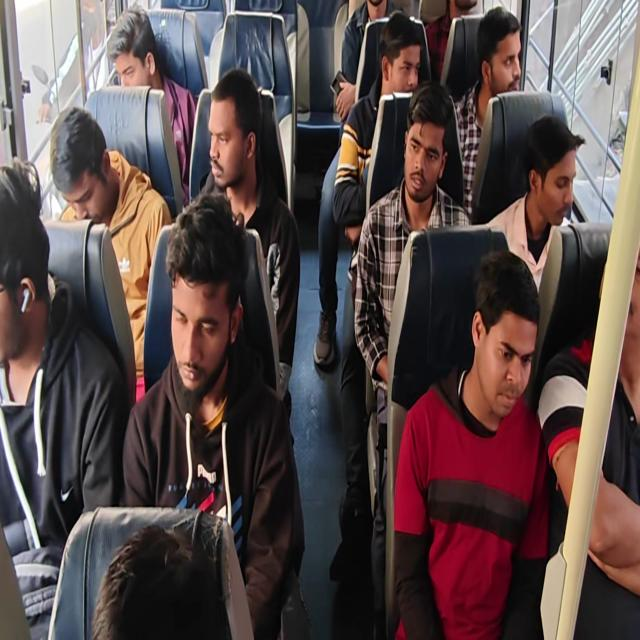person: (90, 522, 234, 640), (162, 196, 244, 402), (464, 240, 540, 415), (0, 162, 52, 378), (44, 100, 126, 230), (202, 61, 262, 198), (517, 117, 586, 221), (99, 4, 166, 96), (601, 230, 640, 386), (405, 81, 449, 206), (475, 4, 526, 96), (374, 12, 423, 106), (354, 0, 393, 25), (453, 0, 482, 23)
